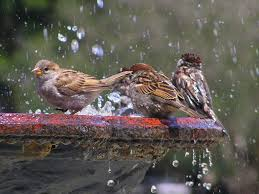hsparrow: (25, 57, 133, 119), (120, 59, 200, 119), (173, 51, 232, 128)
